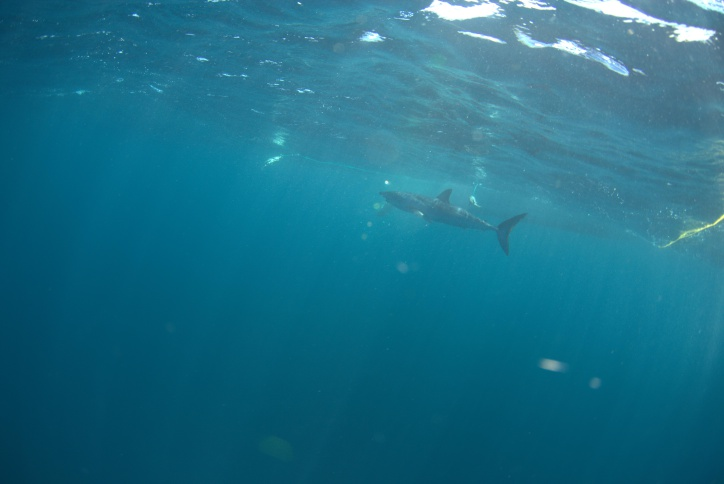Mako: (361, 181, 536, 262)
